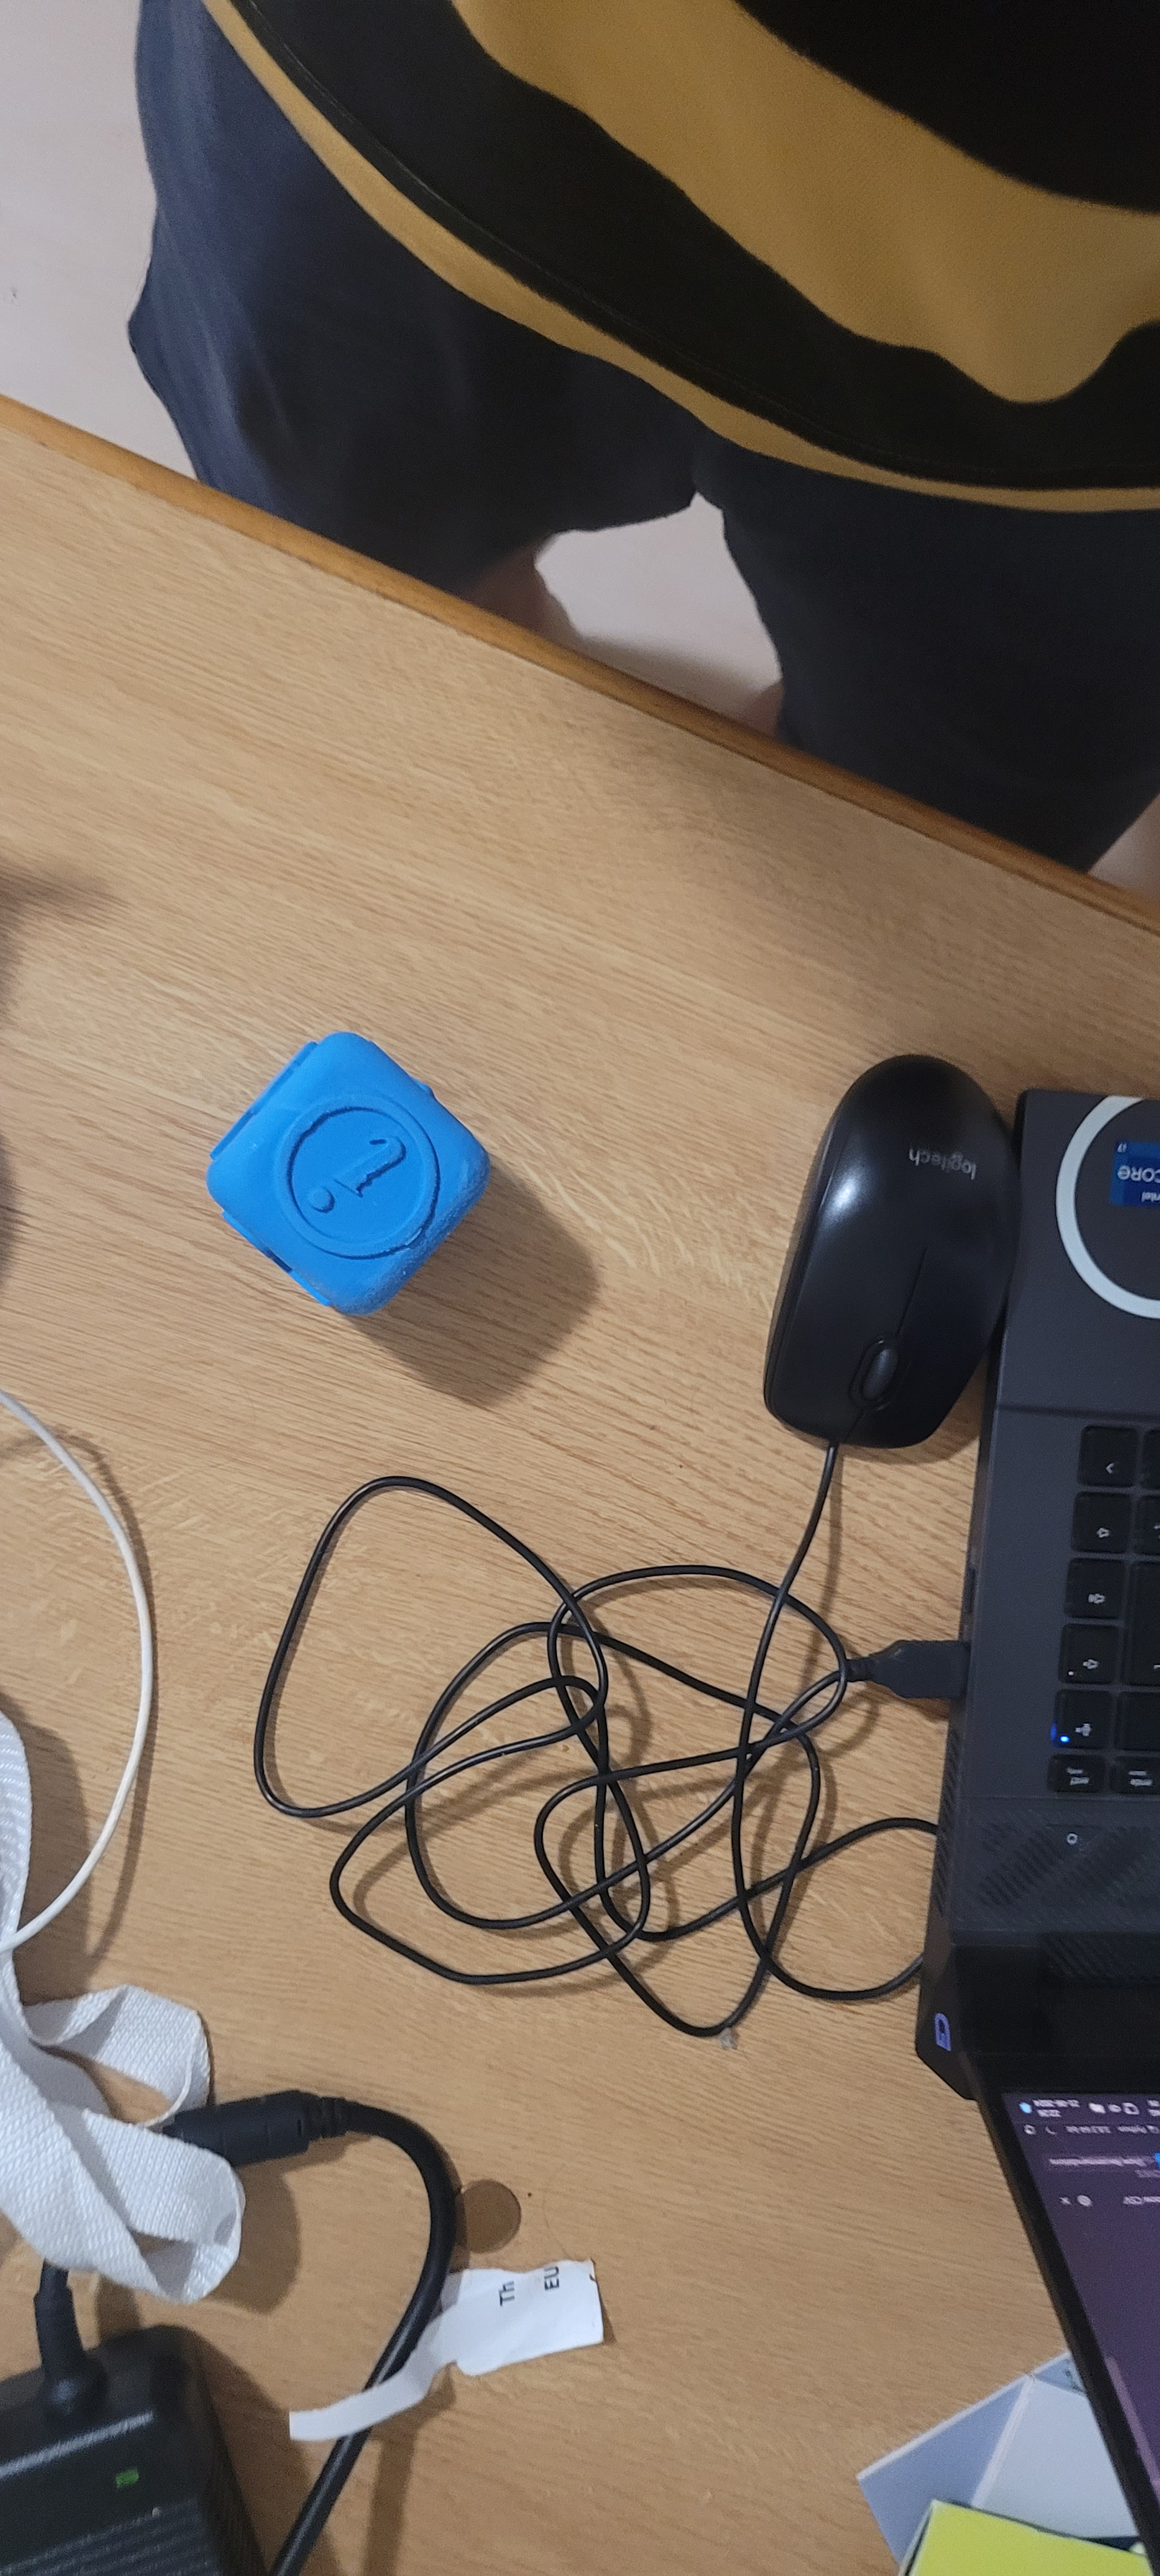Info: (271, 1033, 463, 1321)
